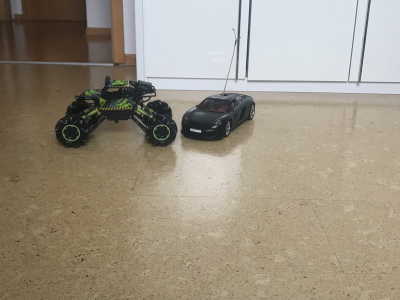remote control car: (52, 74, 180, 149)
